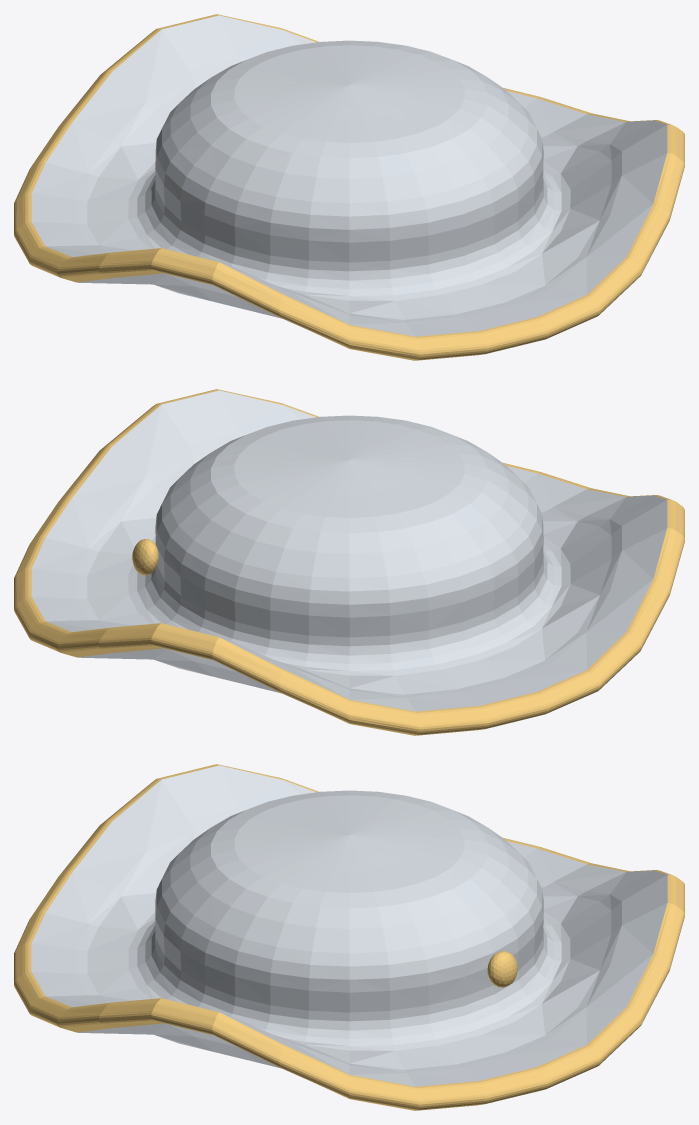
File: HatTricorn.obj
The picture shows the model from 3 angles, top to bottom: view 1: azimuth 30°, elevation 25°; view 2: azimuth 150°, elevation 25°; view 3: azimuth 270°, elevation 25°; orthographic projection.
Bounding box in the file's own units: 2.2 × 0.56 × 2.19.
